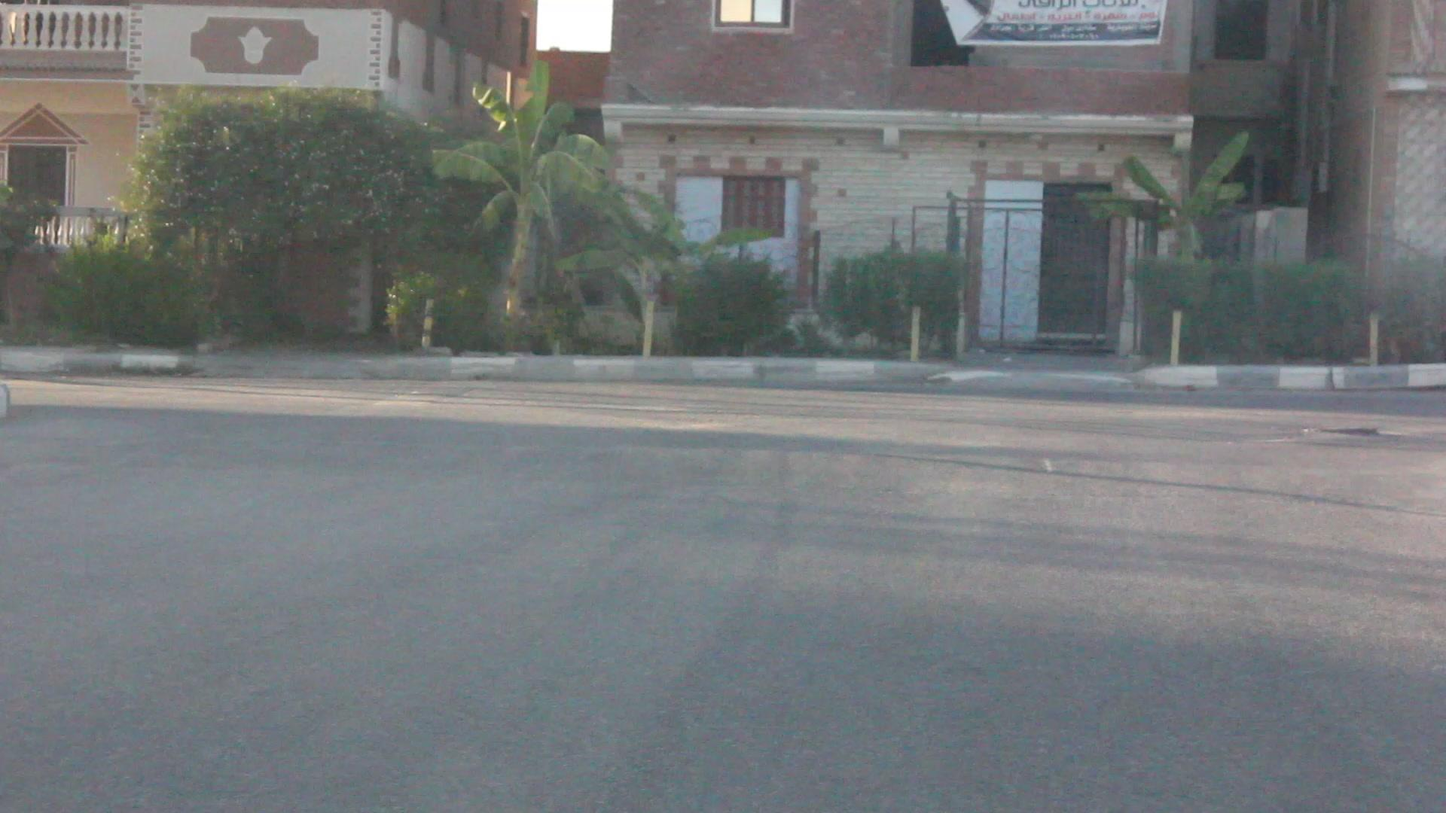Bump: (90, 414, 1446, 463)
